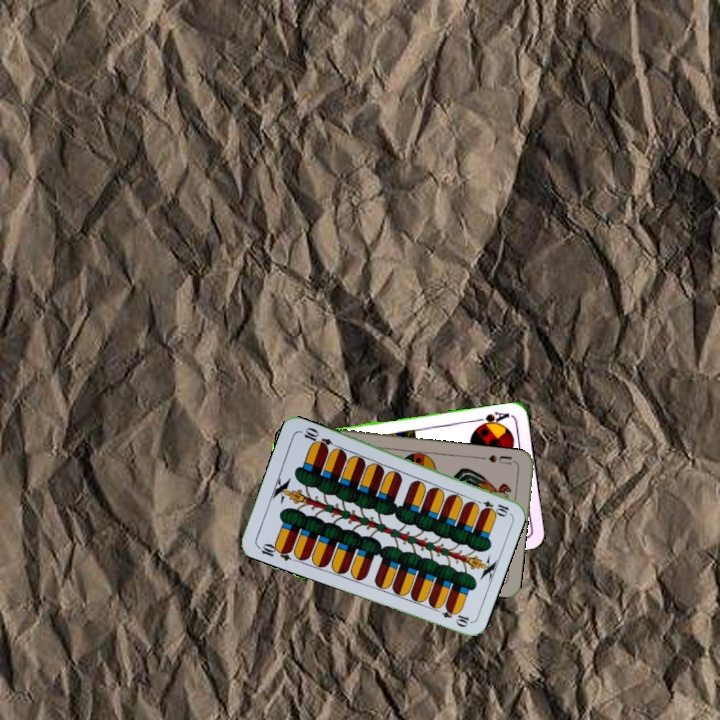E10: (254, 539, 294, 563), (471, 496, 511, 517)
SA: (472, 407, 512, 430)
SU: (485, 451, 519, 467)
